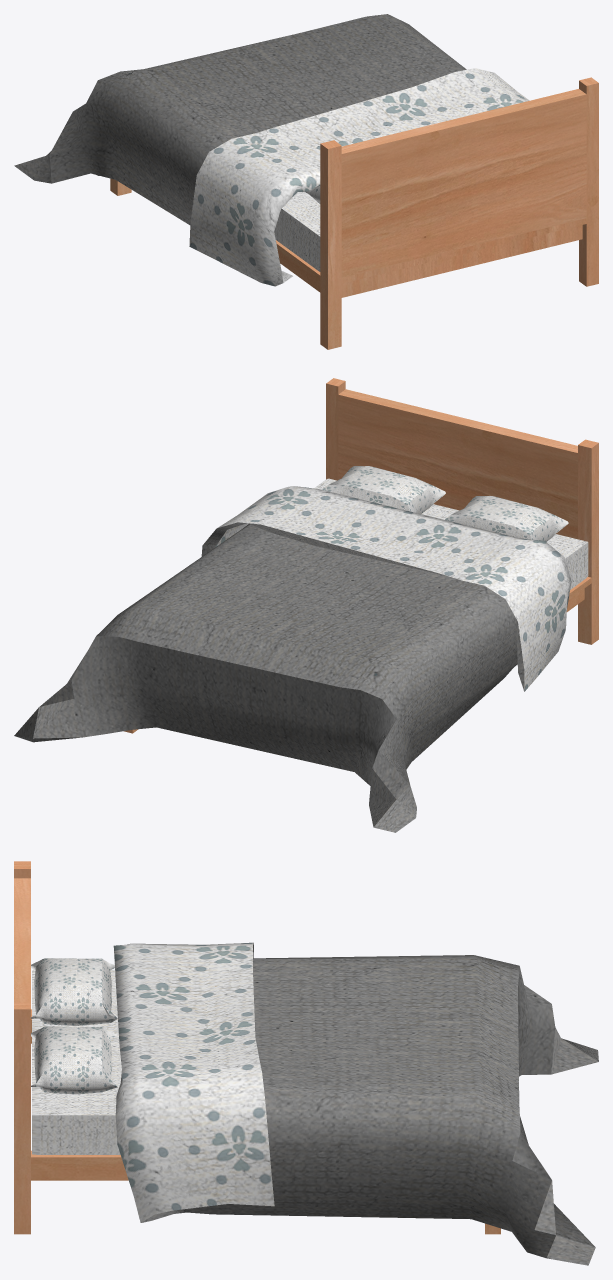
The model's file is FUR0210027.fbx.
The picture shows the model from 3 angles, top to bottom: view 1: azimuth 30°, elevation 25°; view 2: azimuth 150°, elevation 25°; view 3: azimuth 270°, elevation 25°; orthographic projection. The views are drawn at different scales.
Parts seen in each view (by area): view 1: smFUR0210027; view 2: smFUR0210027; view 3: smFUR0210027.
Boxes of the visible parts, left/top/right/bottom form: smFUR0210027: left=14, top=14, right=598, bottom=349; smFUR0210027: left=14, top=378, right=598, bottom=832; smFUR0210027: left=14, top=861, right=598, bottom=1265.
Bounding box in the file's own units: 303 × 147 × 347.
1 material, 1 textured.
